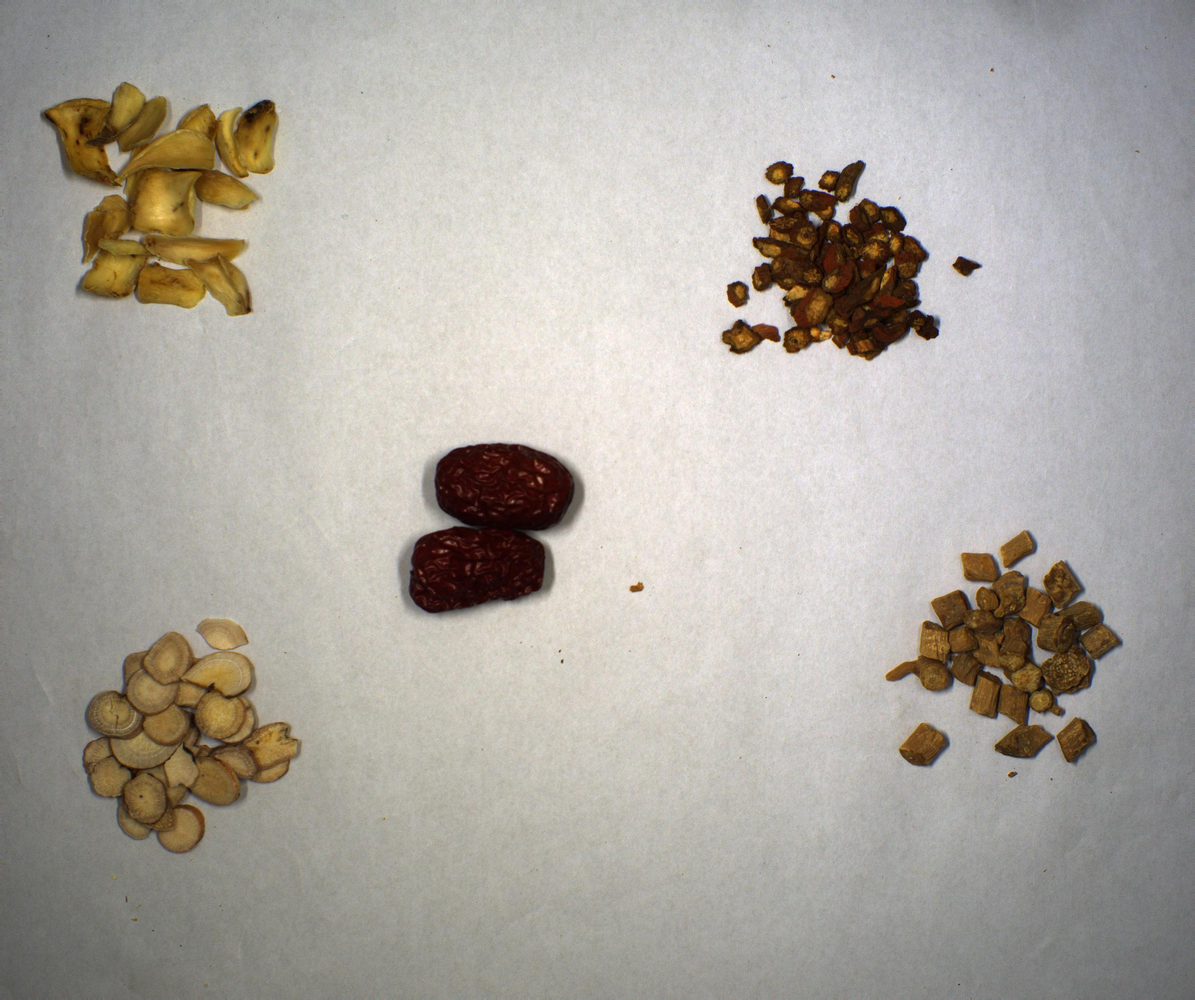baihe: (33, 80, 303, 329)
baishao: (75, 607, 315, 863)
danshen: (709, 149, 989, 373)
dazao: (397, 433, 601, 629)
niuxi: (877, 527, 1128, 783)
